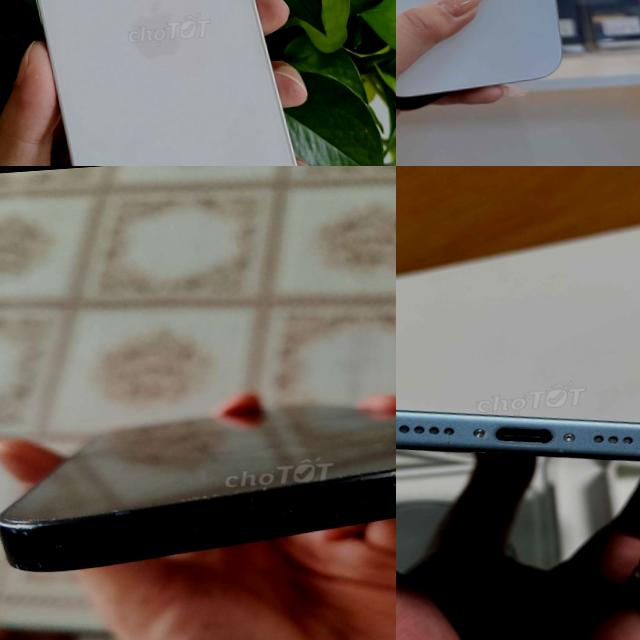scratch: (1, 487, 266, 532), (10, 532, 96, 580), (328, 438, 396, 482)
